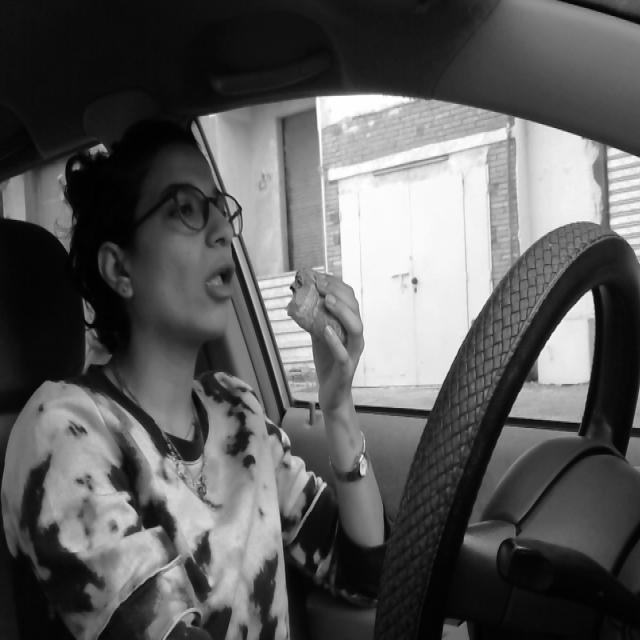eating: (280, 244, 360, 378)
